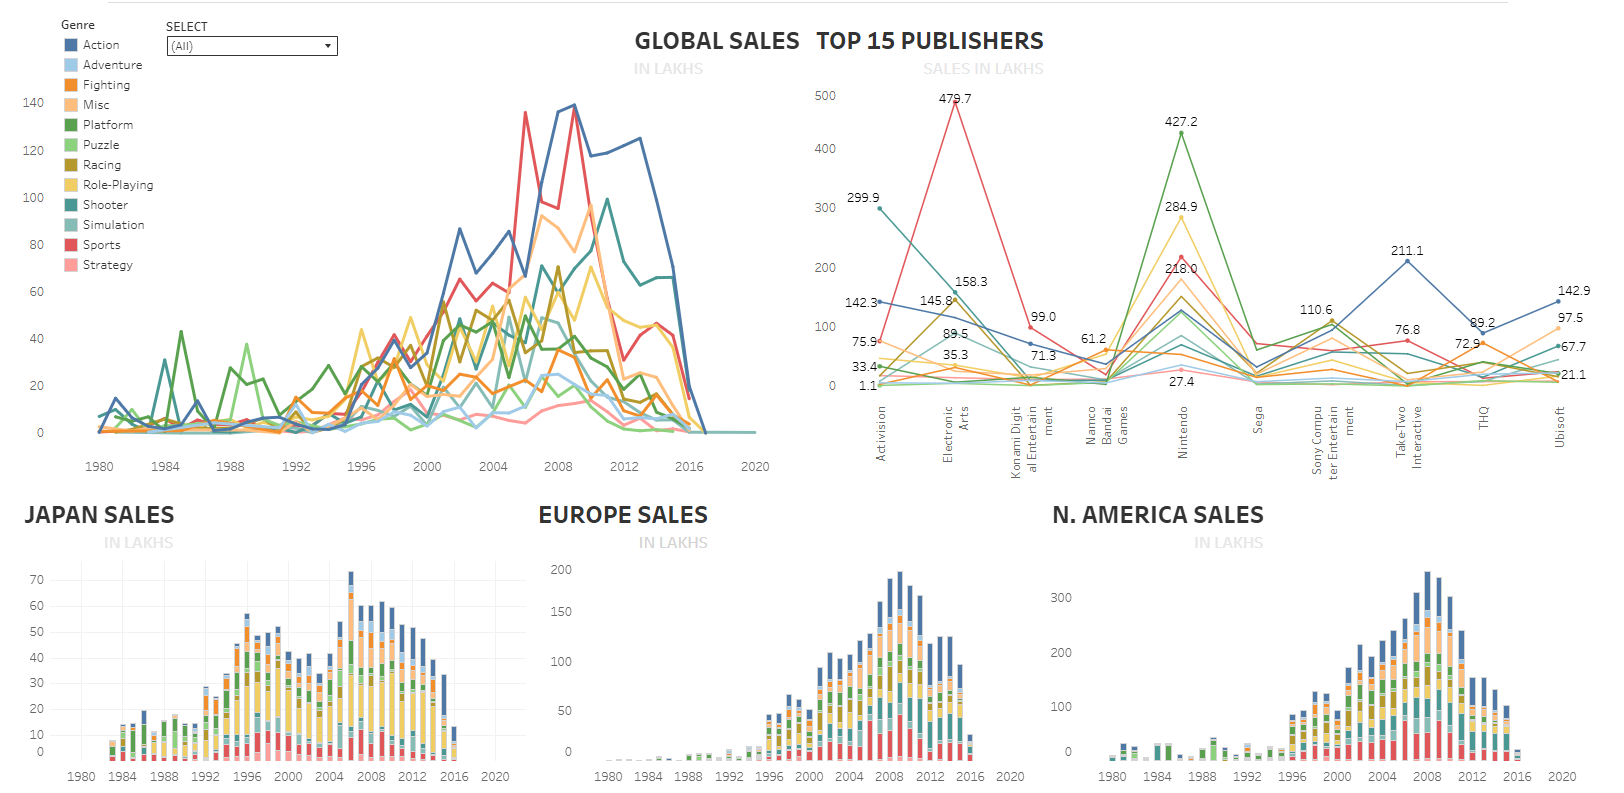

This screenshot's page, from the dashboard's own definition file:
{"tool":"tableau","page":{"name":"Dashboard 1","canvas":[1000,1000],"units":"permille","ordinal":0},"visuals":[{"type":"worksheet","title":"GLOBAL SALE","mark":"Automatic","rows":["Global_Sales"],"cols":["Year"],"box":[5,10,495,592.2]},{"type":"worksheet","title":"TOP PUBLISHERS","mark":"Line","rows":["Global_Sales"],"cols":["Publisher"],"box":[500,10,495,592.2]},{"type":"filter","title":"EU SALES","param":"[federated.0sp6j990b96g5x19cqdlw0bf6ttq].[none:Genre:nk]","box":[96.2,12.5,113.1,72.3]},{"type":"legend","title":"JP SALES","param":"[federated.0sp6j990b96g5x19cqdlw0bf6ttq].[none:Genre:nk]","box":[33.1,16.2,87.5,341.7]},{"type":"worksheet","title":"JP SALES","mark":"Bar","rows":["JP_Sales"],"cols":["Year"],"box":[5,602.2,321.2,387.8]},{"type":"worksheet","title":"EU SALES","mark":"Bar","rows":["EU_Sales"],"cols":["Year"],"box":[326.2,602.2,321.2,387.8]},{"type":"worksheet","title":"NA SALES","mark":"Bar","rows":["NA_Sales"],"cols":["Year"],"box":[647.5,602.2,347.5,387.8]}]}

Visuals, with their boxes on the dashboard's canvas, which has no fixed pixel size, in thousandths of its width and height (x1, y1, x2, y2). These are canvas units, not pixel positions in the 1624x793 screenshot, which may show the page scaled, cropped or inside an application window:
"GLOBAL SALE" worksheet: {"x1": 5, "y1": 10, "x2": 500, "y2": 602}
"TOP PUBLISHERS" worksheet (Line marks): {"x1": 500, "y1": 10, "x2": 995, "y2": 602}
"EU SALES" filter: {"x1": 96, "y1": 12, "x2": 209, "y2": 85}
"JP SALES" legend: {"x1": 33, "y1": 16, "x2": 121, "y2": 358}
"JP SALES" worksheet (Bar marks): {"x1": 5, "y1": 602, "x2": 326, "y2": 990}
"EU SALES" worksheet (Bar marks): {"x1": 326, "y1": 602, "x2": 647, "y2": 990}
"NA SALES" worksheet (Bar marks): {"x1": 648, "y1": 602, "x2": 995, "y2": 990}
